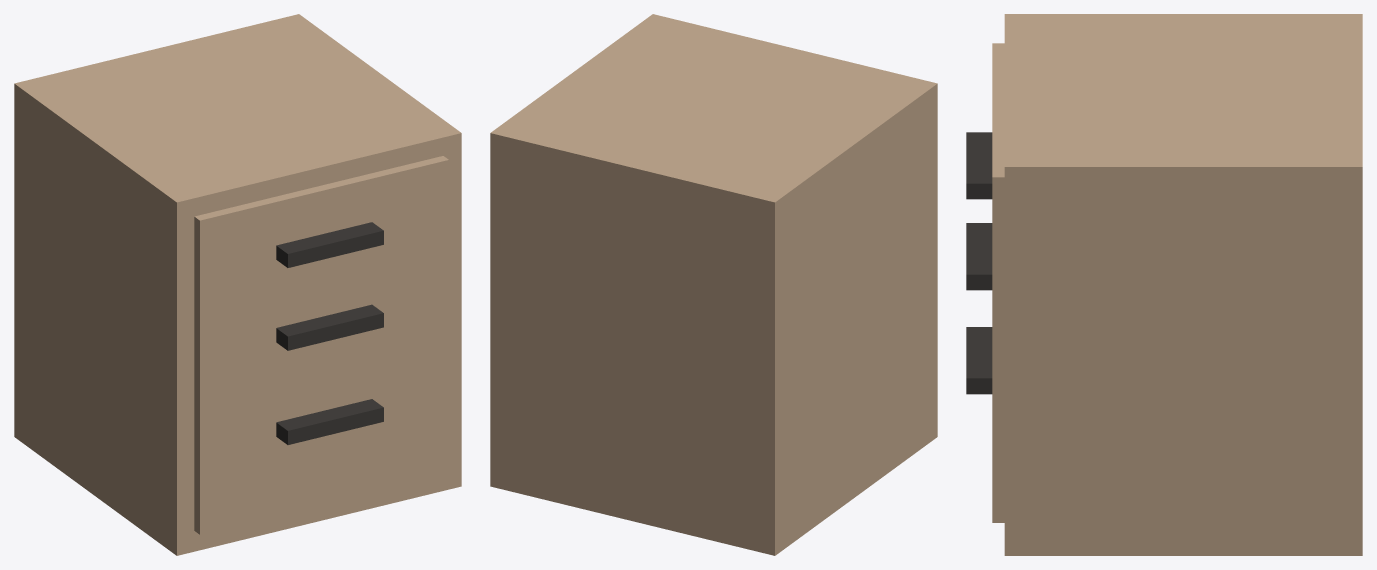
File: smallDrawer.fbx
The picture shows the model from 3 angles, left to right: view 1: azimuth 30°, elevation 25°; view 2: azimuth 150°, elevation 25°; view 3: azimuth 270°, elevation 25°; orthographic projection. The views are drawn at different scales.
Visible parts, largest first — view 1: pCube2; view 2: pCube2; view 3: pCube2.
Boxes of the visible parts, x1,y1,x2,y2 form: pCube2: (14, 14, 461, 555); pCube2: (490, 14, 937, 555); pCube2: (966, 14, 1362, 555).
Size of the model in its own units: 1.55 by 1.84 by 1.7.
